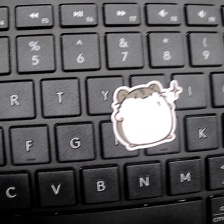mouse: (112, 77, 183, 154)
